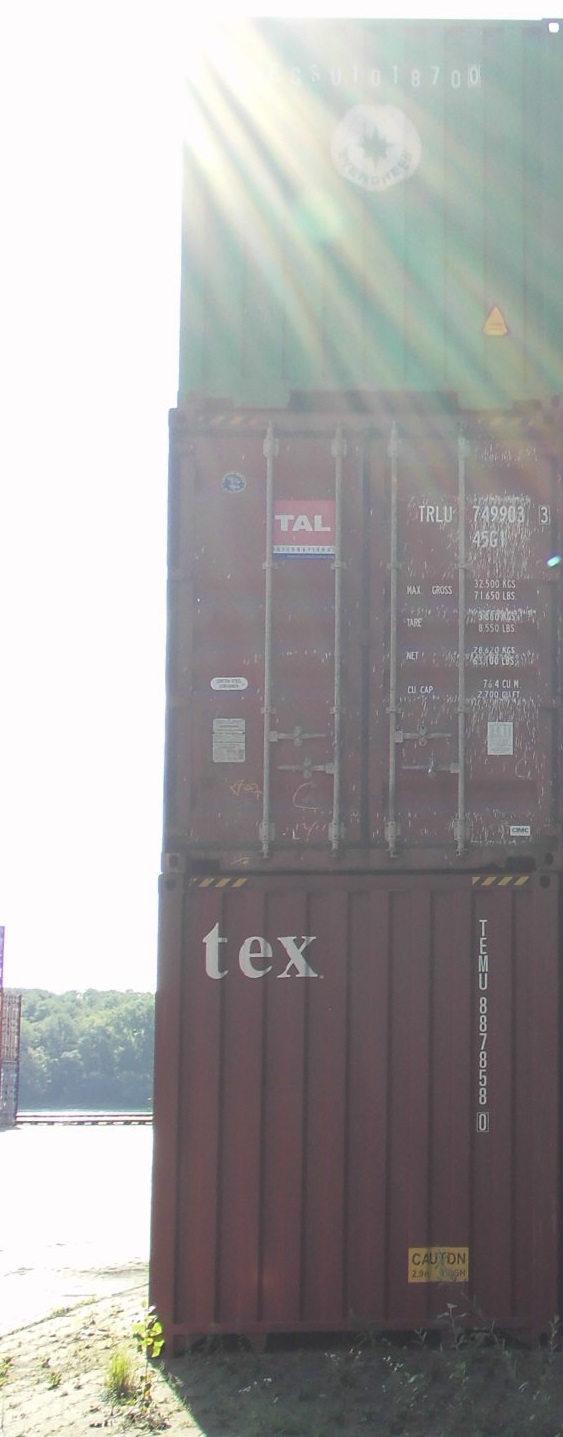container_door: (161, 406, 563, 873)
container_no_door: (146, 871, 563, 1352), (183, 17, 562, 397)
